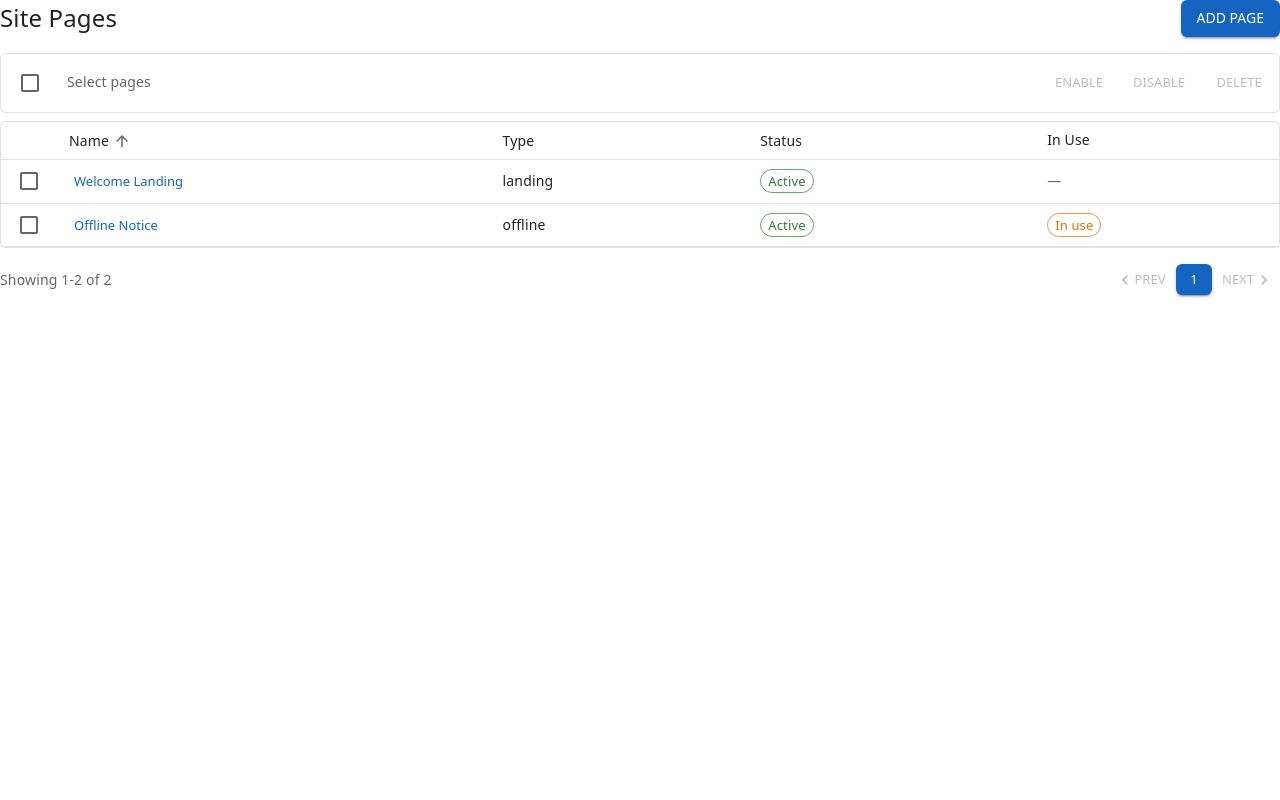
PageListPage (TS-M4-F2) › duplicate name → inline error, dialog stays open (AC-3)
Check: the button "Welcome Landing" is shown, box [69,166,188,197]
Click the button with test id "add-page".
click(1230, 18)  # box [1180,0,1279,36]
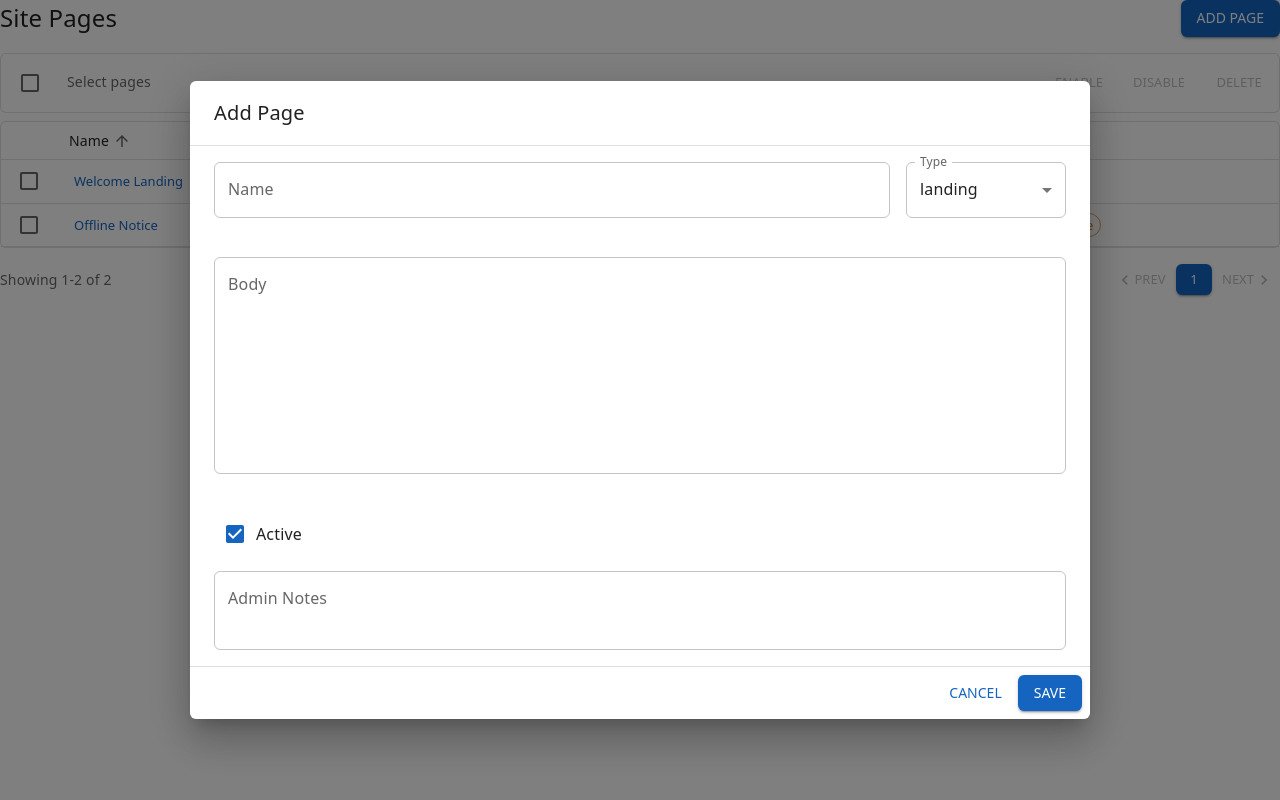
Type "Welcome Landing" into the field with test id "page-name".
click(552, 190); type("Welcome Landing")  # box [214,162,890,218]
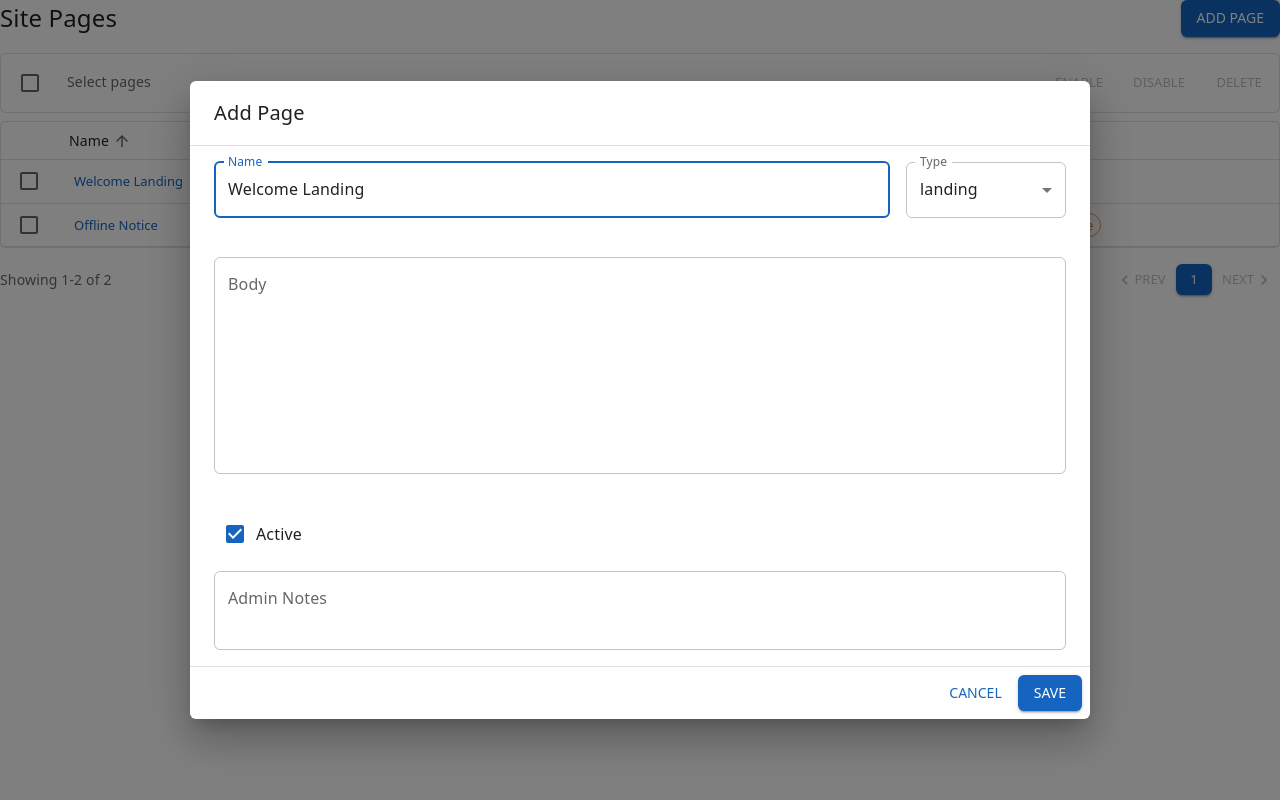
Click the button with test id "page-save".
click(1050, 693)  # box [1018,675,1082,711]
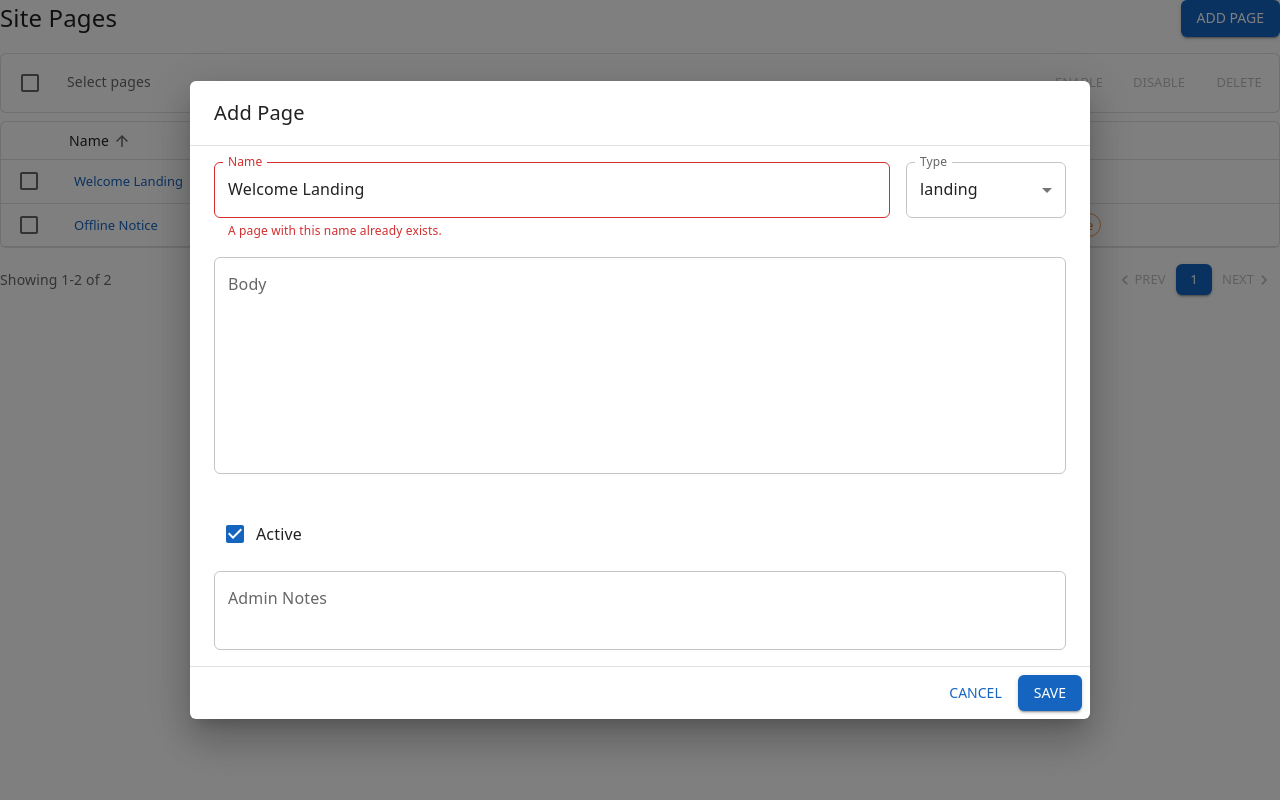
Check: the dialog is shown, box [190,81,1090,719]
Check: the text "A page with this name already exists." is shown, box [228,222,442,239]
